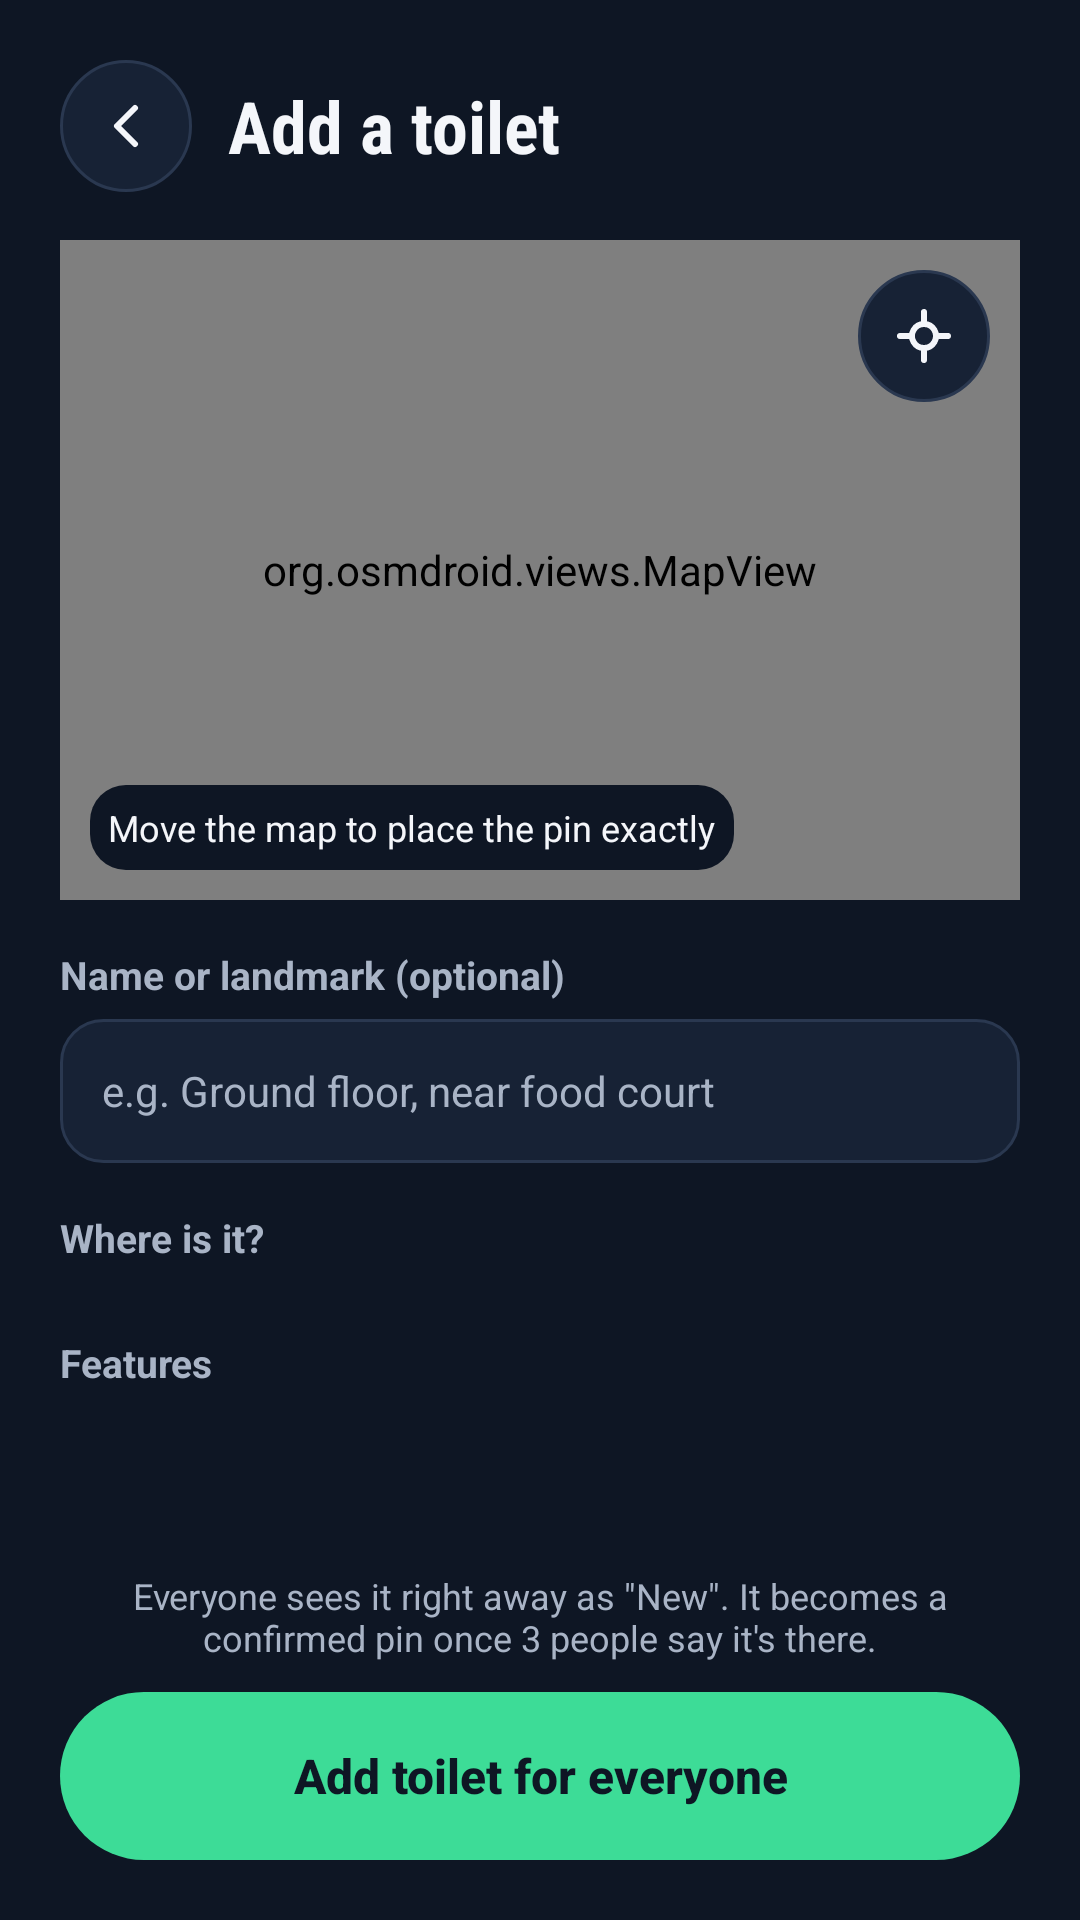

Where icons sit on this 1080px×1920px app screen, as (x1, y1, x2, y2):
Back: (60, 60, 192, 192)
Use my location: (858, 270, 990, 402)
